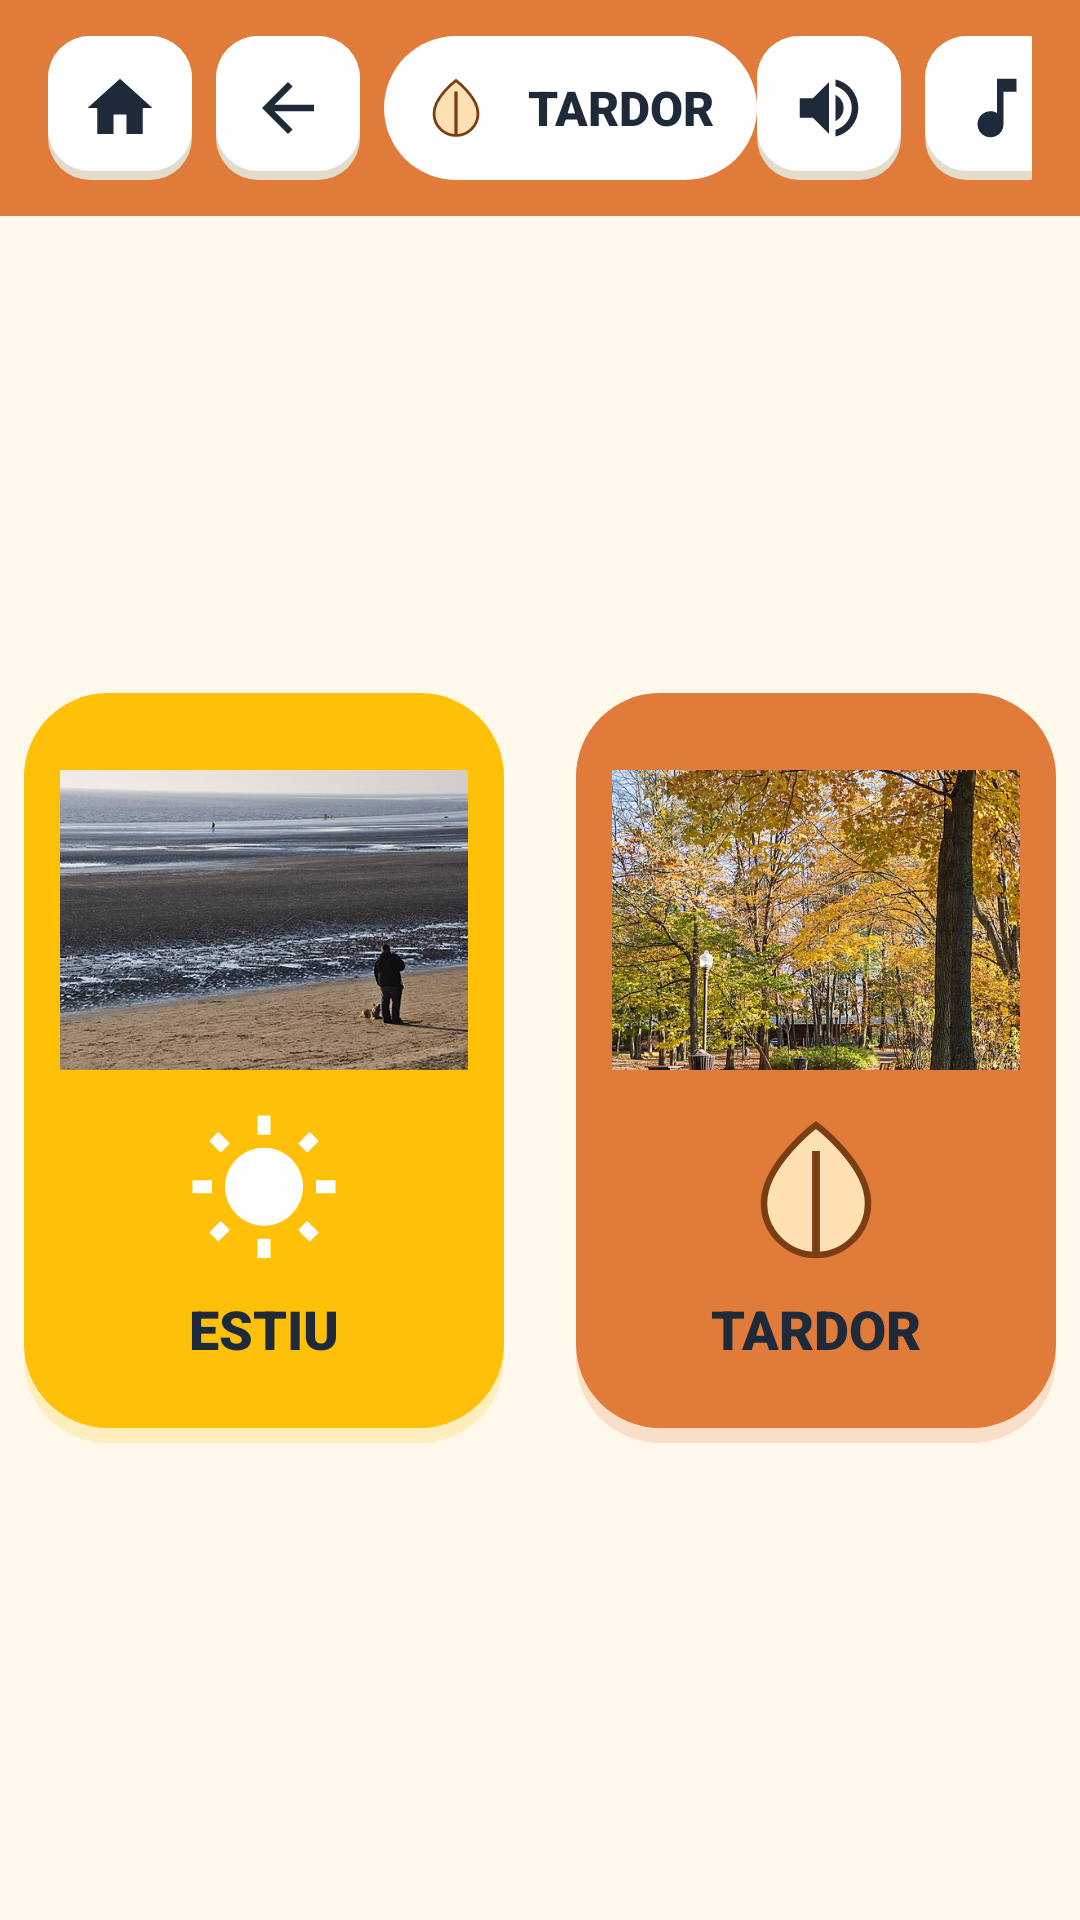

Screen size 1080 x 1920. Icon name, then its box in pixels as (x1, y1, x2, y2):
Enrere: (216, 36, 360, 180)
Escoltar: (757, 36, 901, 180)
Inici: (48, 36, 192, 180)
Música: (925, 36, 1032, 180)
otono: (432, 79, 480, 137), (761, 1121, 871, 1258)
verano: (192, 1115, 336, 1258)
